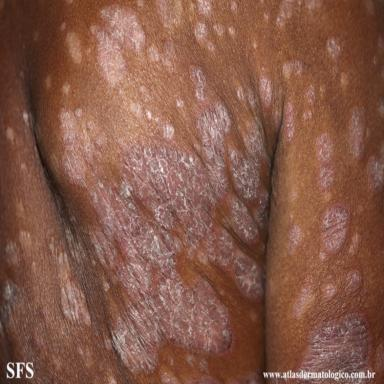Psoriasis: (92, 104, 269, 371), (300, 310, 371, 380), (90, 4, 145, 88), (60, 105, 104, 186), (55, 251, 91, 326), (318, 201, 353, 261), (316, 130, 337, 193), (190, 0, 215, 52), (348, 106, 367, 161), (367, 143, 384, 193), (294, 277, 314, 319), (155, 0, 183, 28), (149, 41, 175, 68), (190, 65, 208, 103), (66, 31, 84, 68), (258, 67, 273, 111), (283, 102, 295, 146), (277, 0, 295, 28), (345, 270, 363, 294), (288, 225, 302, 254), (321, 277, 337, 302), (5, 240, 20, 266), (19, 231, 32, 259), (347, 231, 361, 256), (283, 60, 303, 77), (160, 366, 179, 383), (3, 280, 17, 301), (326, 39, 340, 59), (305, 84, 315, 105), (145, 108, 160, 122), (340, 72, 349, 95), (305, 0, 322, 12), (236, 85, 247, 103), (6, 127, 14, 144), (229, 0, 238, 14), (213, 25, 223, 36), (62, 82, 71, 94), (303, 109, 312, 120), (228, 26, 236, 37), (319, 84, 326, 96)
